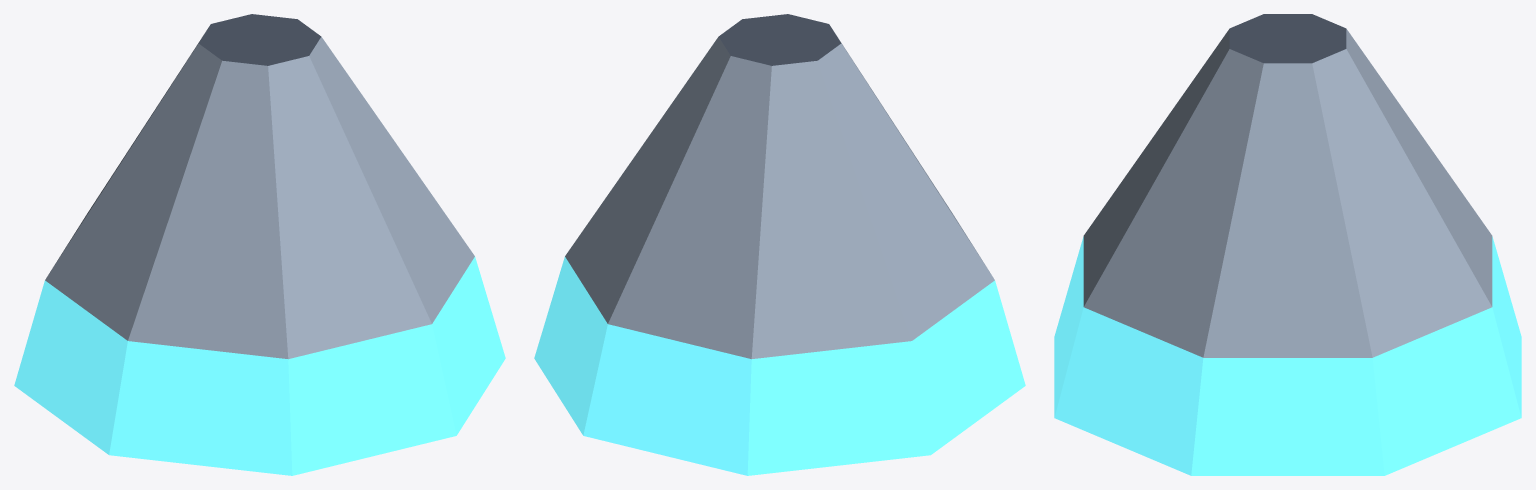
Rendered from rocket_topA.glb.
3 views of the same model, side by side, from view 1: azimuth 30°, elevation 25°; view 2: azimuth 150°, elevation 25°; view 3: azimuth 270°, elevation 25° (orthographic).
Parts seen in each view (by area): view 1: rocket_topA; view 2: rocket_topA; view 3: rocket_topA.
Part boxes in pixels (x1,y1,x2,y2): rocket_topA: [14, 14, 505, 475]; rocket_topA: [534, 14, 1025, 475]; rocket_topA: [1054, 14, 1521, 475].
Bounding box in the file's own units: 1 × 0.8 × 1.
